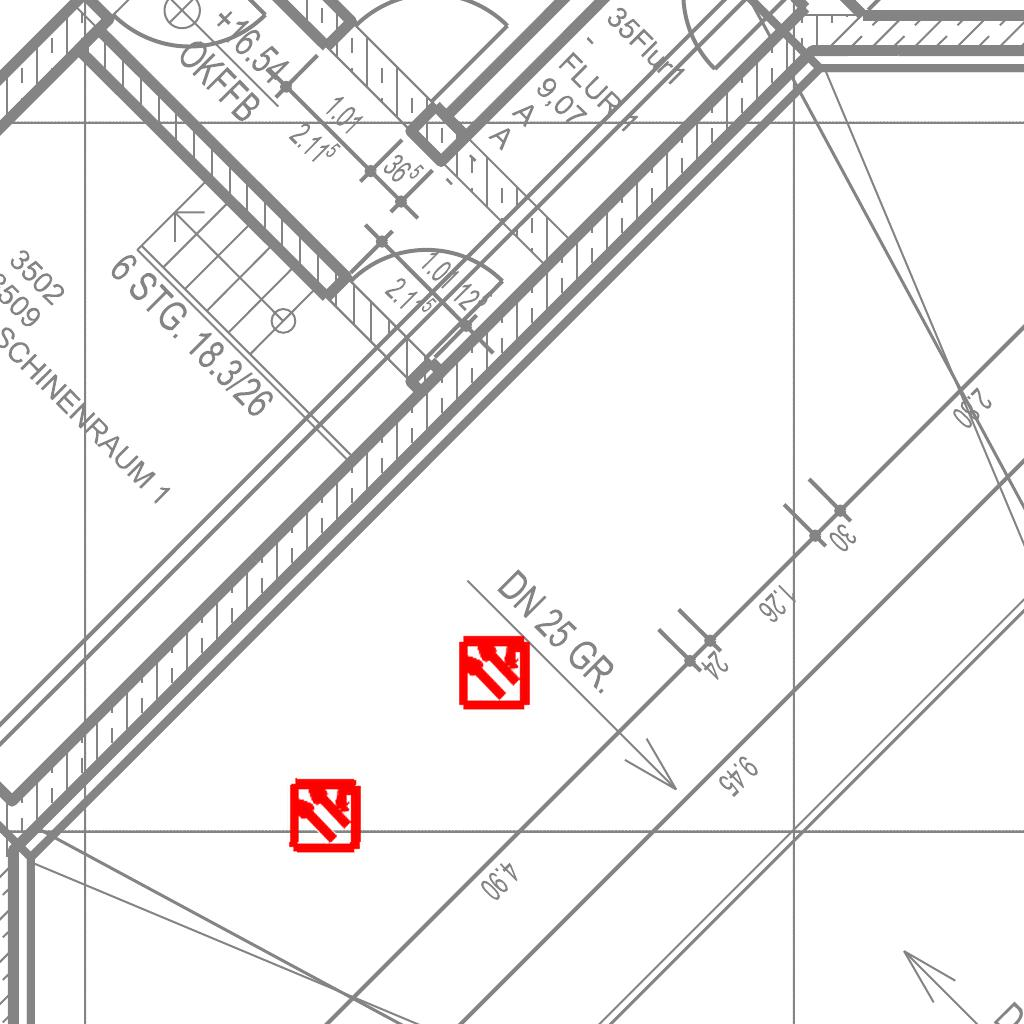OT_Multisensormelder_(Kombination_RMO_WMD): (268, 756, 383, 871), (438, 614, 551, 727)
